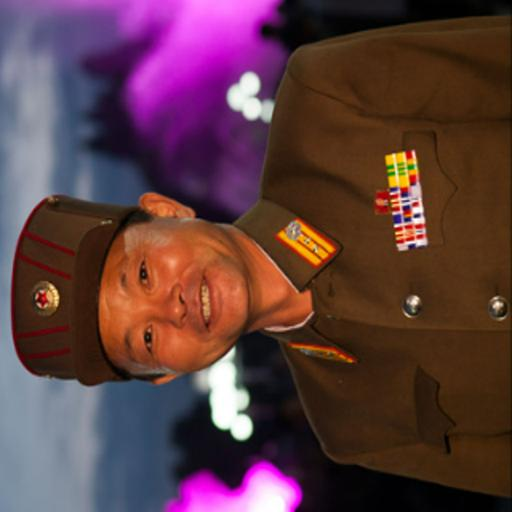north army: (17, 16, 512, 512)
